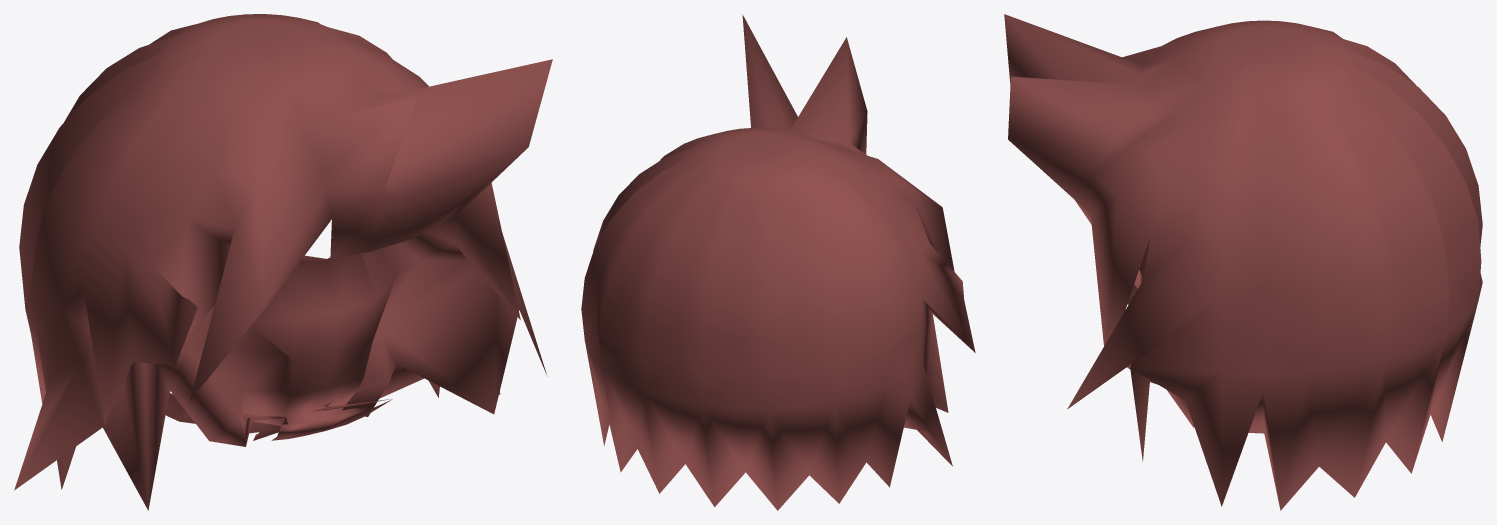
File: male_hair2_color2.gltf
3 views of the same model, side by side, from view 1: azimuth 30°, elevation 25°; view 2: azimuth 150°, elevation 25°; view 3: azimuth 270°, elevation 25° (orthographic). The views are drawn at different scales.
Parts seen in each view (by area): view 1: male_hair5; view 2: male_hair5; view 3: male_hair5.
Boxes of the visible parts, x1,y1,x2,y2 form: male_hair5: (14, 14, 552, 510); male_hair5: (581, 14, 975, 510); male_hair5: (1004, 14, 1482, 510).
Bounding box in the file's own units: 0.2627 × 0.2401 × 0.2478.
